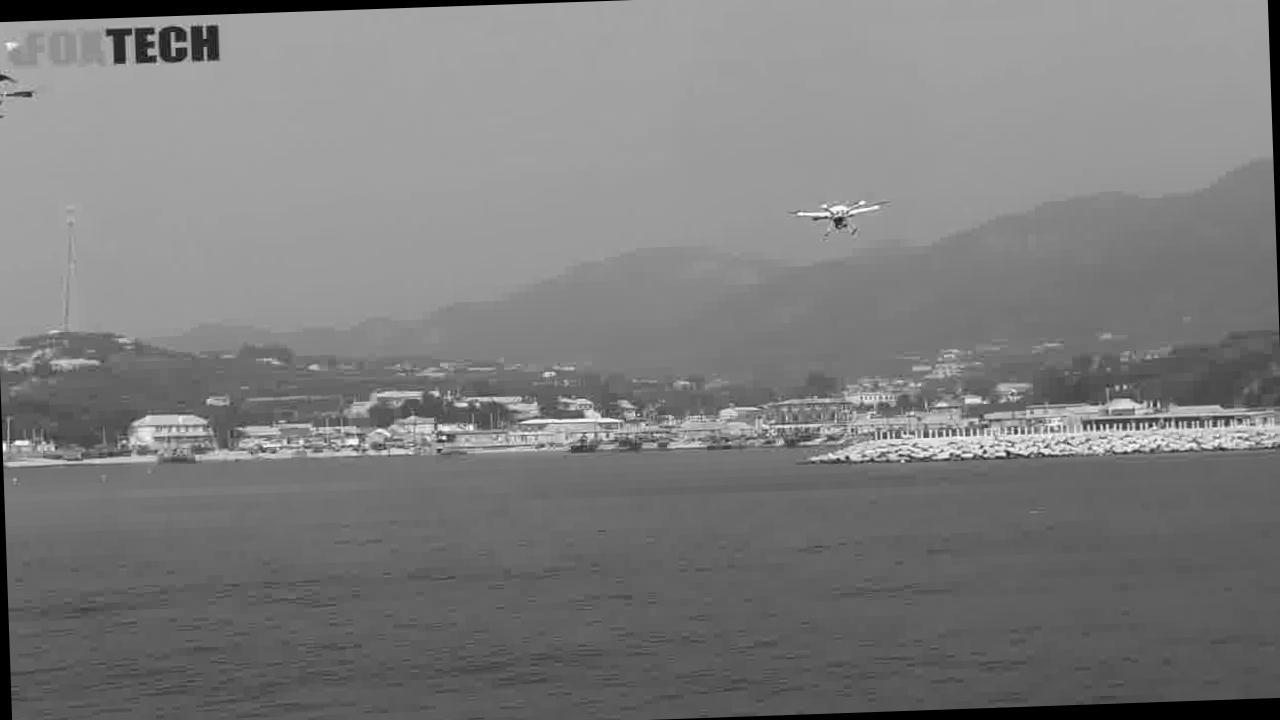drone: (785, 178, 901, 251)
